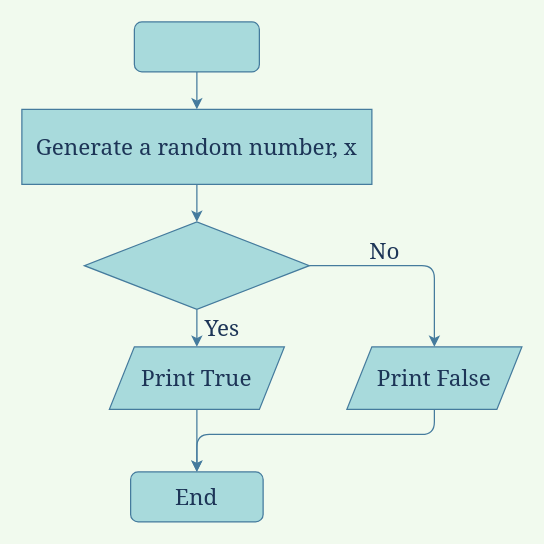
The diagram is 544 pixels wide and 544 high, and some of its shapes have lost their labels. The box of each missing label's shape, as (x1, y1, x2, y2) in pixels:
Is x > 50?: (83, 221, 309, 309)
Start: (133, 21, 259, 72)
